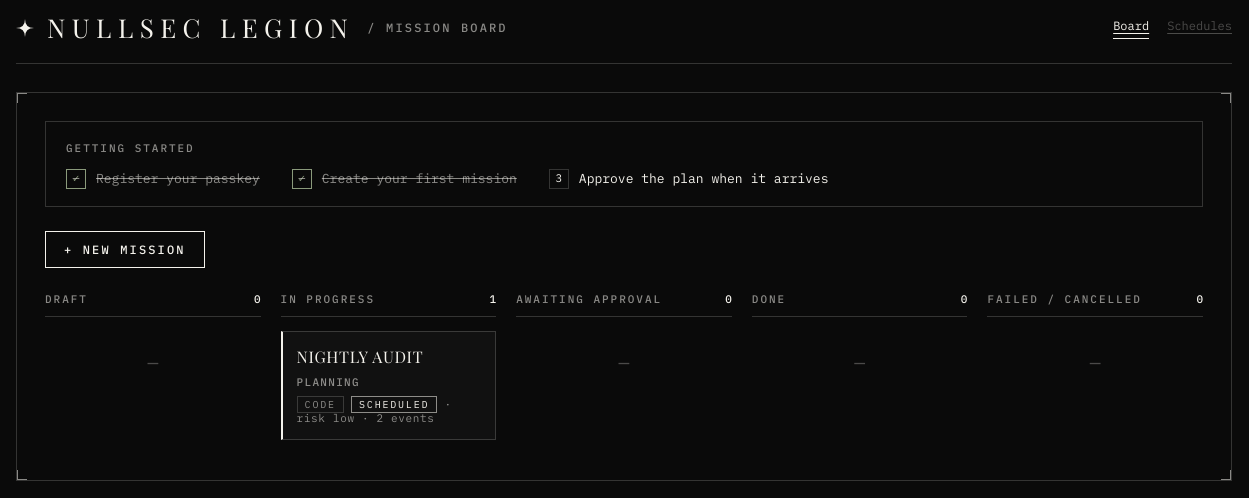
T69: schedules view + scheduled tag › the Schedules view renders the list with name, cron, and next run
Click the button with class "linkish" showing "Schedules". click: (1200, 28)
box: [1167,16,1232,39]
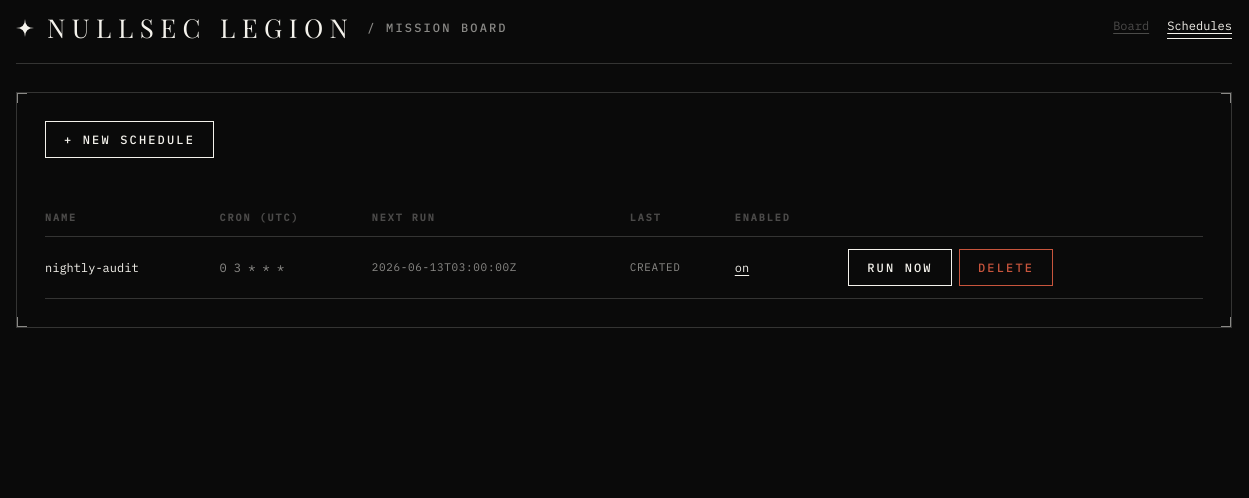
Expected: the table with test id "schedules-table" is shown, [45,200,1203,299]
Expected: the table with test id "schedules-table" shows "nightly-audit", [45,260,139,275]
Expected: the table with test id "schedules-table" shows "0 3 * * *", [219,260,284,275]
